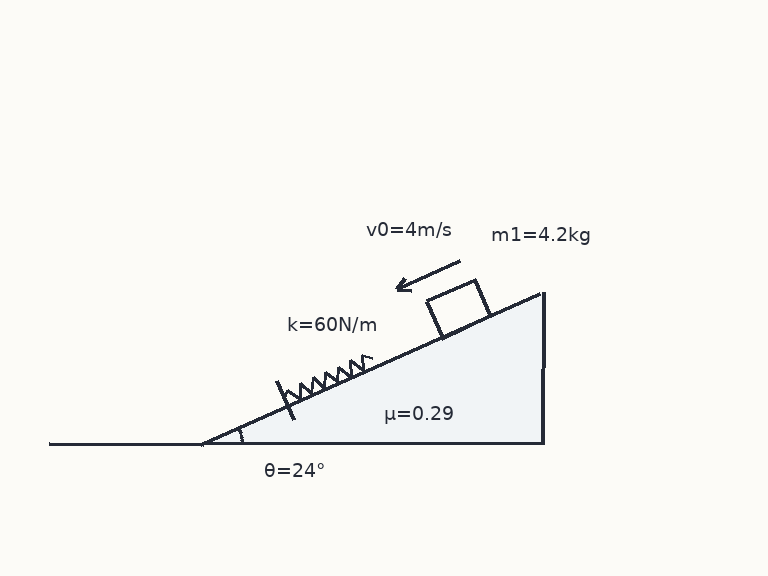block: (424, 278, 493, 339)
ramp: (200, 290, 545, 446)
spring: (282, 353, 374, 401)
